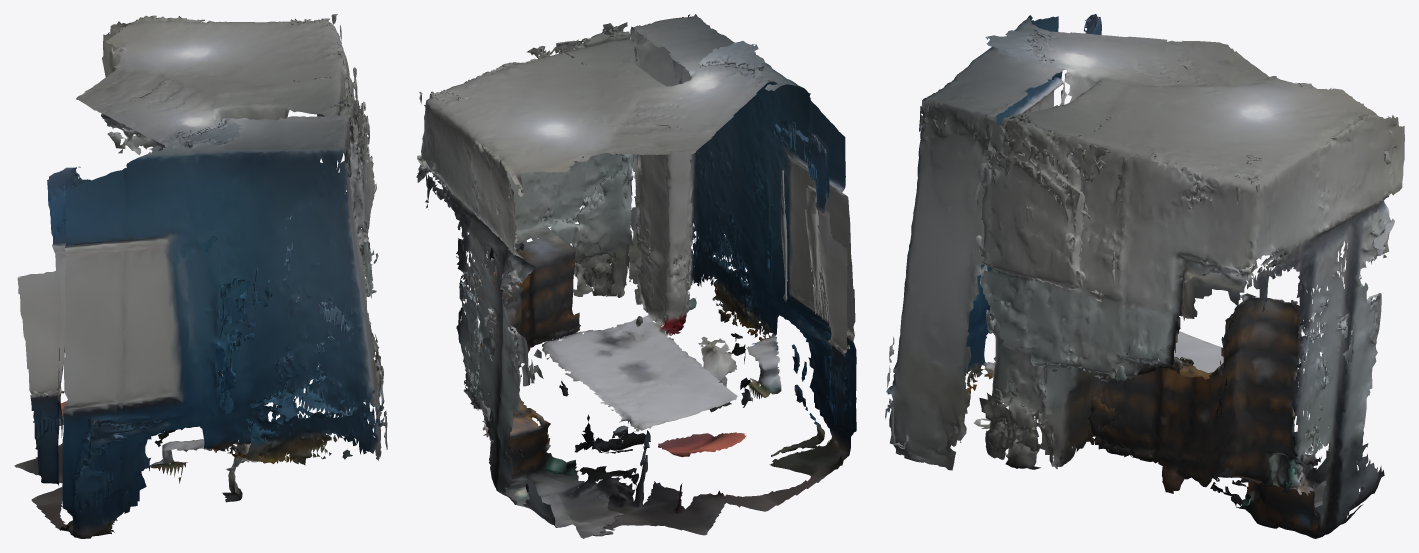
Rendered from rough-room.glb.
The picture shows the model from 3 angles, left to right: view 1: azimuth 30°, elevation 25°; view 2: azimuth 150°, elevation 25°; view 3: azimuth 270°, elevation 25°; orthographic projection. The views are drawn at different scales.
Visible parts, largest first — view 1: Early observed surface; view 2: Early observed surface; view 3: Early observed surface.
Boxes of the visible parts, x1,y1,x2,y2 form: Early observed surface: [14, 14, 387, 538]; Early observed surface: [416, 14, 856, 538]; Early observed surface: [885, 14, 1404, 538].
Size of the model in its own units: 2.67 by 2.6 by 2.72.
